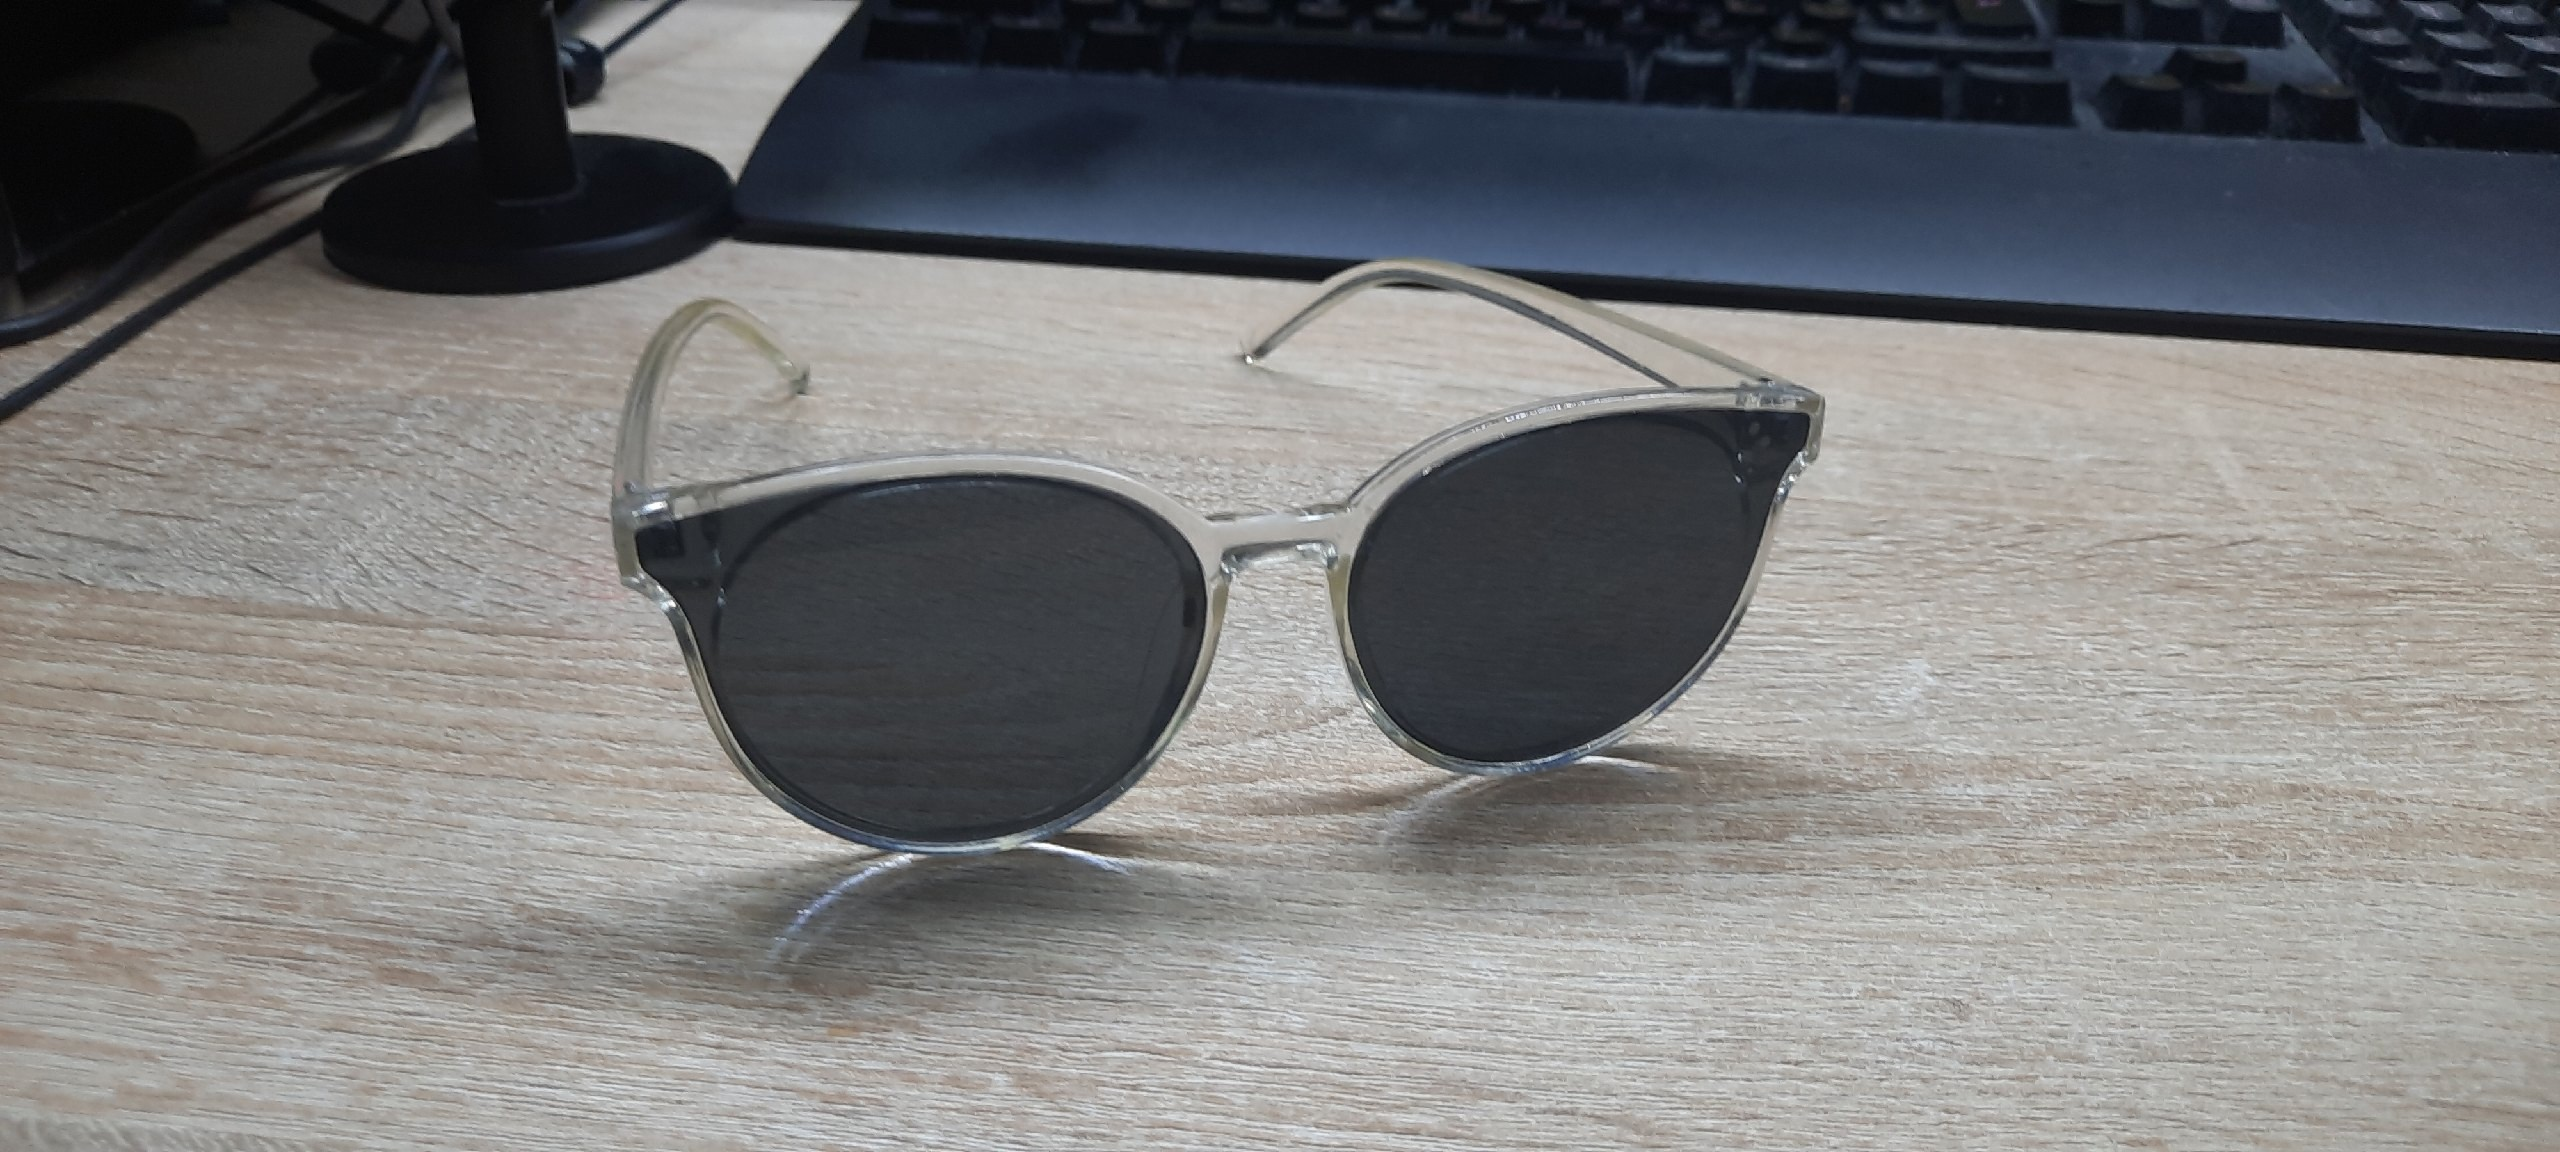glasses: (612, 261, 1824, 853)
